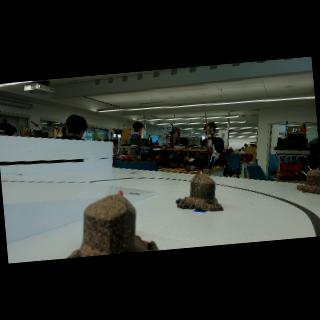teletubby: (118, 190, 123, 196), (200, 172, 203, 174)
